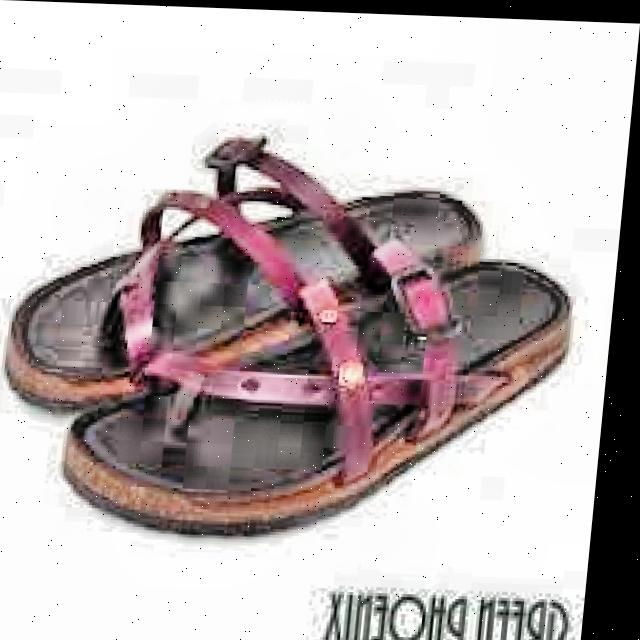shoes: (0, 95, 606, 559)
